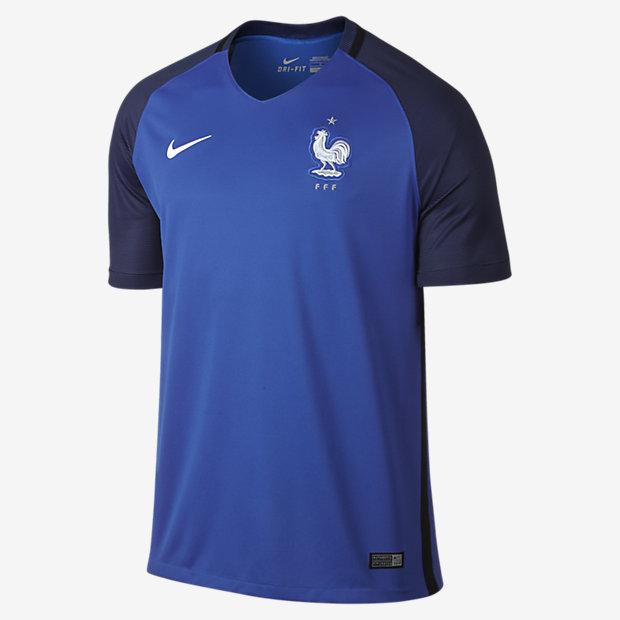teeshirt: (83, 16, 525, 620)
